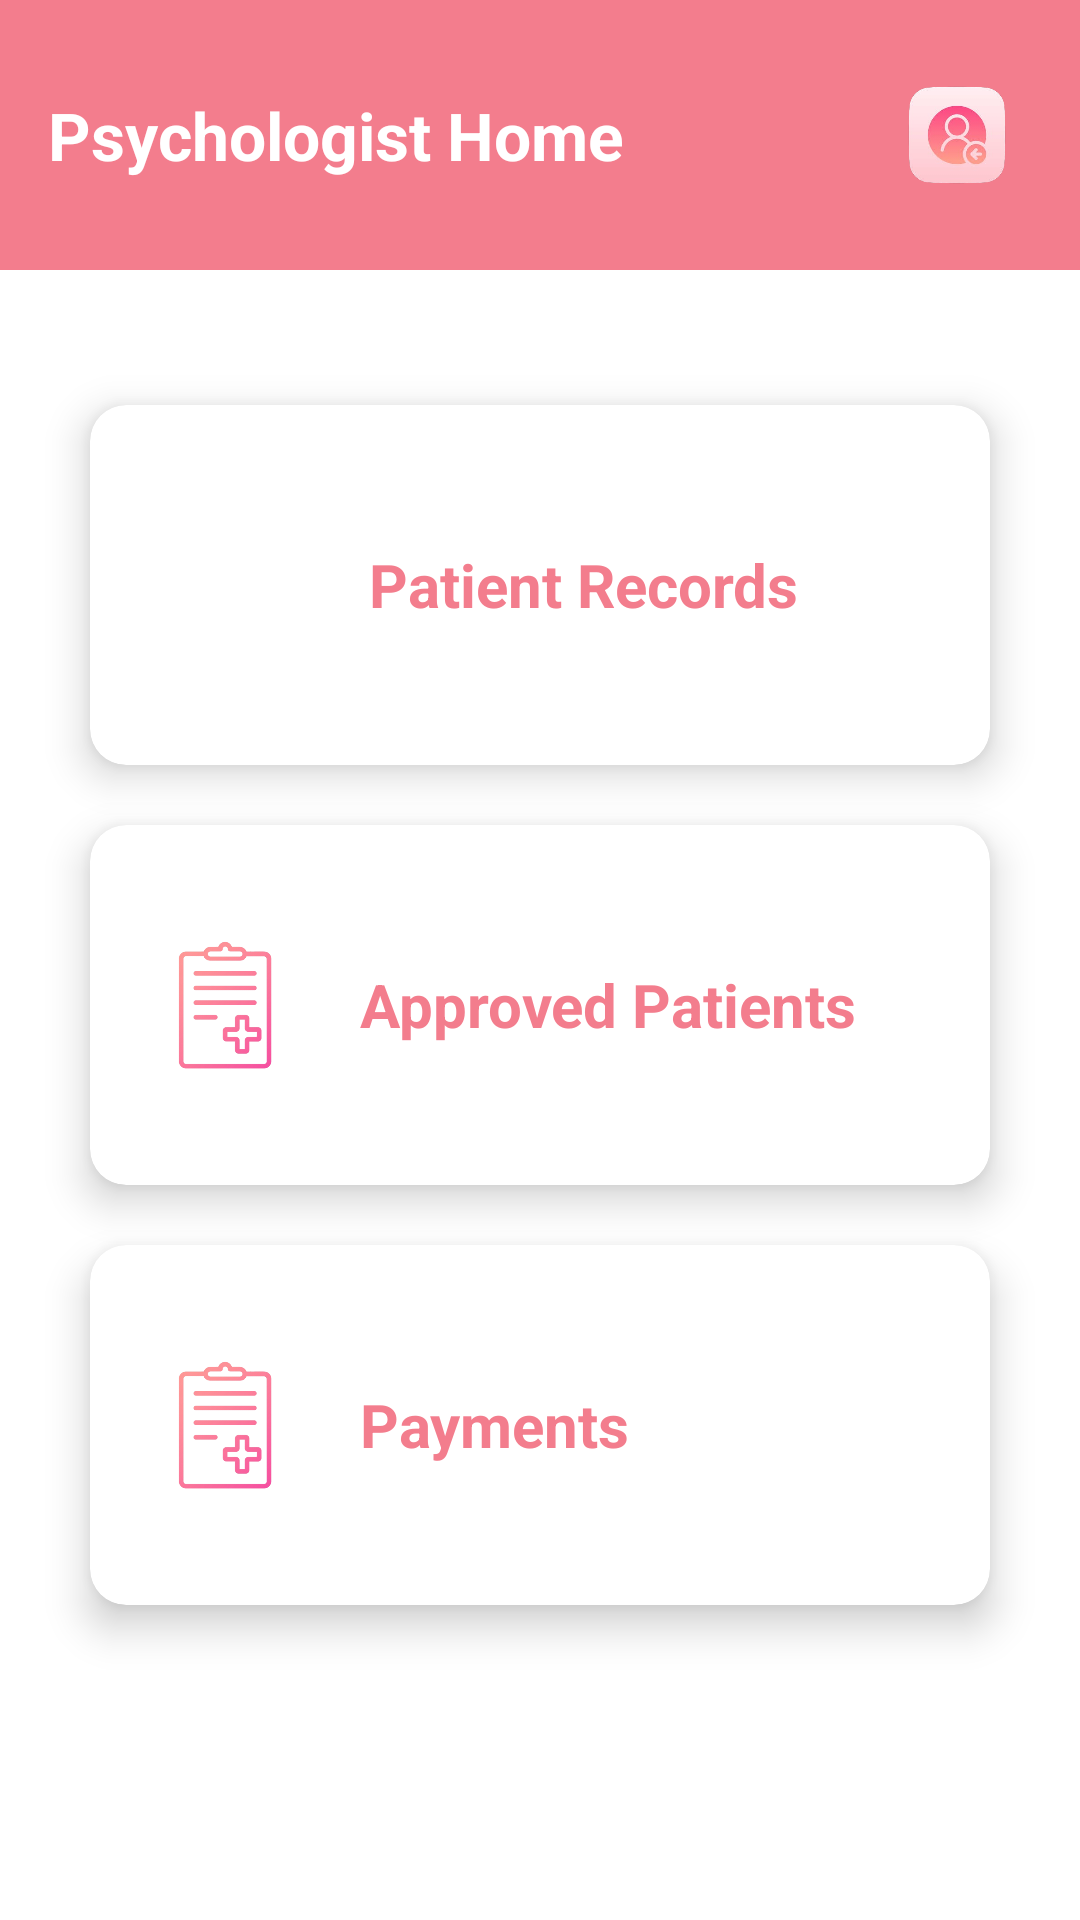

Where icons sit on this 1080px x 1920px app screen, as region(x1, y1, x2, y2):
login: region(909, 87, 1005, 183)
